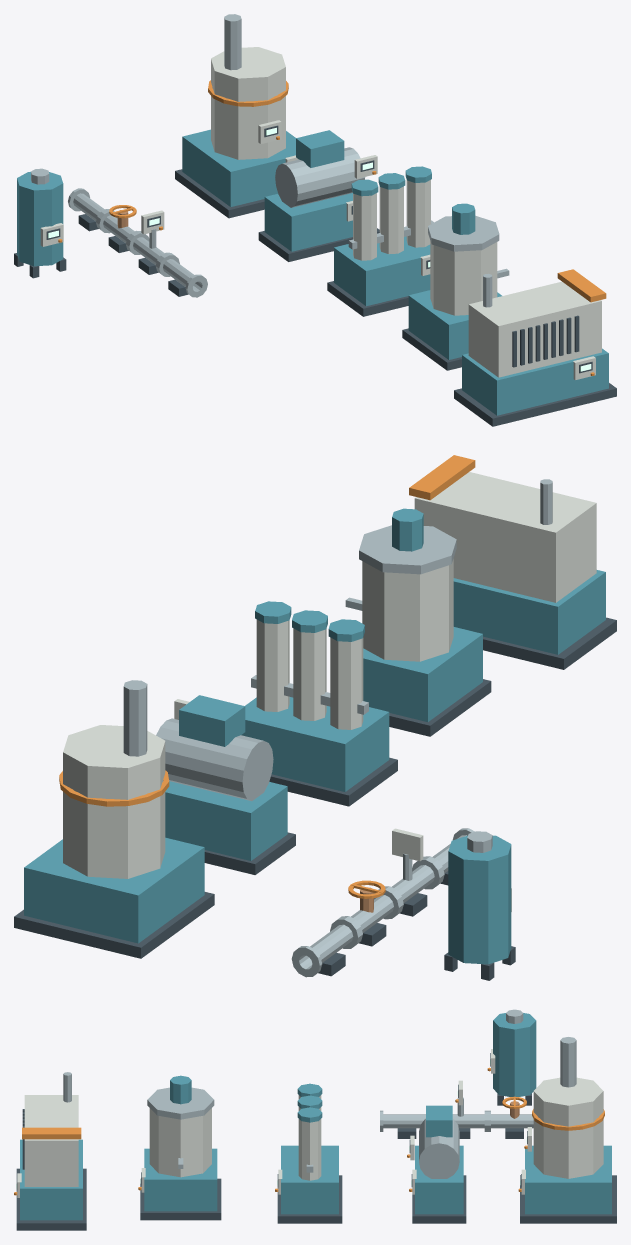
File: process-utilities-installation.glb
The picture shows the model from 3 angles, top to bottom: view 1: azimuth 30°, elevation 25°; view 2: azimuth 150°, elevation 25°; view 3: azimuth 270°, elevation 25°; orthographic projection. The views are drawn at different scales.
Parts seen in each view (by area): view 1: 008-factory-conveyor-network-machine-generator/cream, 004-factory-conveyor-network-machine-boiler/cream, 006-factory-conveyor-network-machine-filter/blue, 008-factory-conveyor-network-machine-generator/blue, 005-factory-conveyor-network-machine-compressor/blue, 006-factory-conveyor-network-machine-filter/cream, 004-factory-conveyor-network-machine-boiler/blue, 007-factory-conveyor-network-machine-mixer/cream, 008-factory-conveyor-network-machine-generator/dark, 009-factory-conveyor-network-pipe-pressure-tank/blue, 007-factory-conveyor-network-machine-mixer/blue, 005-factory-conveyor-network-machine-compressor/steel (+12 smaller); view 2: 008-factory-conveyor-network-machine-generator/cream, 004-factory-conveyor-network-machine-boiler/cream, 004-factory-conveyor-network-machine-boiler/blue, 006-factory-conveyor-network-machine-filter/blue, 005-factory-conveyor-network-machine-compressor/blue, 006-factory-conveyor-network-machine-filter/cream, 007-factory-conveyor-network-machine-mixer/blue, 007-factory-conveyor-network-machine-mixer/cream, 008-factory-conveyor-network-machine-generator/blue, 009-factory-conveyor-network-pipe-pressure-tank/blue, 005-factory-conveyor-network-machine-compressor/steel, 007-factory-conveyor-network-machine-mixer/steel (+12 smaller); view 3: 004-factory-conveyor-network-machine-boiler/cream, 008-factory-conveyor-network-machine-generator/cream, 006-factory-conveyor-network-machine-filter/blue, 004-factory-conveyor-network-machine-boiler/blue, 007-factory-conveyor-network-machine-mixer/blue, 007-factory-conveyor-network-machine-mixer/cream, 009-factory-conveyor-network-pipe-pressure-tank/blue, 005-factory-conveyor-network-machine-compressor/blue, 008-factory-conveyor-network-machine-generator/blue, 005-factory-conveyor-network-machine-compressor/steel, 006-factory-conveyor-network-machine-filter/cream, 007-factory-conveyor-network-machine-mixer/steel (+11 smaller).
Boxes of the visible parts, x1=… form: 008-factory-conveyor-network-machine-generator/cream: x1=468, y1=281, x2=601, y2=380; 004-factory-conveyor-network-machine-boiler/cream: x1=211, y1=47, x2=298, y2=162; 006-factory-conveyor-network-machine-filter/blue: x1=334, y1=166, x2=431, y2=306; 008-factory-conveyor-network-machine-generator/blue: x1=462, y1=348, x2=608, y2=415; 005-factory-conveyor-network-machine-compressor/blue: x1=264, y1=130, x2=352, y2=251; 006-factory-conveyor-network-machine-filter/cream: x1=353, y1=180, x2=430, y2=275; 004-factory-conveyor-network-machine-boiler/blue: x1=182, y1=129, x2=295, y2=206; 007-factory-conveyor-network-machine-mixer/cream: x1=430, y1=241, x2=497, y2=315; 008-factory-conveyor-network-machine-generator/dark: x1=454, y1=315, x2=616, y2=426; 009-factory-conveyor-network-pipe-pressure-tank/blue: x1=17, y1=171, x2=63, y2=266; 007-factory-conveyor-network-machine-mixer/blue: x1=408, y1=203, x2=501, y2=359; 005-factory-conveyor-network-machine-compressor/steel: x1=275, y1=147, x2=365, y2=207; 008-factory-conveyor-network-machine-generator/cream: x1=414, y1=472, x2=596, y2=602; 004-factory-conveyor-network-machine-boiler/cream: x1=63, y1=725, x2=165, y2=878; 004-factory-conveyor-network-machine-boiler/blue: x1=24, y1=837, x2=204, y2=943; 006-factory-conveyor-network-machine-filter/blue: x1=241, y1=601, x2=389, y2=791; 005-factory-conveyor-network-machine-compressor/blue: x1=165, y1=695, x2=287, y2=860; 006-factory-conveyor-network-machine-filter/cream: x1=256, y1=619, x2=363, y2=729; 007-factory-conveyor-network-machine-mixer/blue: x1=363, y1=508, x2=482, y2=721; 007-factory-conveyor-network-machine-mixer/cream: x1=362, y1=559, x2=453, y2=661; 008-factory-conveyor-network-machine-generator/blue: x1=453, y1=570, x2=605, y2=654; 009-factory-conveyor-network-pipe-pressure-tank/blue: x1=448, y1=835, x2=511, y2=964; 005-factory-conveyor-network-machine-compressor/steel: x1=156, y1=718, x2=273, y2=801; 007-factory-conveyor-network-machine-mixer/steel: x1=345, y1=525, x2=456, y2=610; 004-factory-conveyor-network-machine-boiler/cream: x1=521, y1=1077, x2=603, y2=1194; 008-factory-conveyor-network-machine-generator/cream: x1=17, y1=1095, x2=78, y2=1197; 006-factory-conveyor-network-machine-filter/blue: x1=281, y1=1083, x2=338, y2=1214; 004-factory-conveyor-network-machine-boiler/blue: x1=525, y1=1145, x2=611, y2=1214; 007-factory-conveyor-network-machine-mixer/blue: x1=144, y1=1075, x2=217, y2=1211; 007-factory-conveyor-network-machine-mixer/cream: x1=141, y1=1108, x2=211, y2=1192; 009-factory-conveyor-network-pipe-pressure-tank/blue: x1=493, y1=1013, x2=536, y2=1096; 005-factory-conveyor-network-machine-compressor/blue: x1=415, y1=1105, x2=463, y2=1214; 008-factory-conveyor-network-machine-generator/blue: x1=20, y1=1139, x2=82, y2=1220; 005-factory-conveyor-network-machine-compressor/steel: x1=419, y1=1118, x2=459, y2=1178; 006-factory-conveyor-network-machine-filter/cream: x1=278, y1=1095, x2=321, y2=1194; 007-factory-conveyor-network-machine-mixer/steel: x1=147, y1=1087, x2=214, y2=1168.
Bounding box in the file's own units: 6.2 × 3.2 × 11.2.
